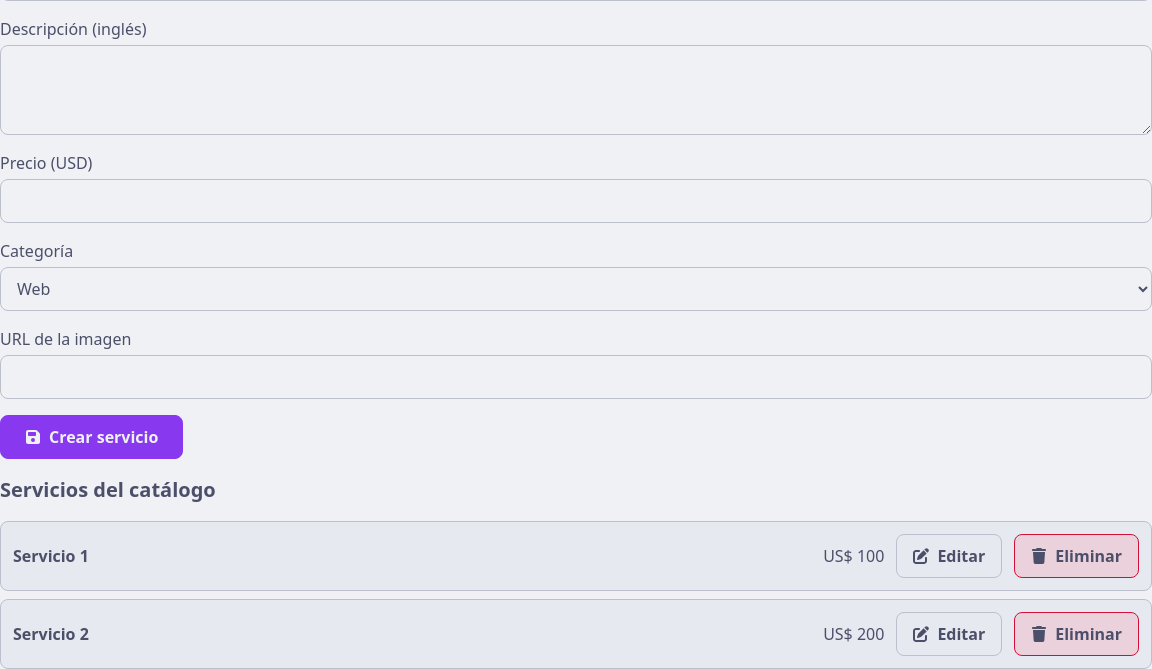
Scenario: Gestion › edit › saves the changes without creating a duplicate
This screenshot has width=1152, height=669.
(page scrolled)
Expected: the list is shown, [0, 521, 1151, 668]
Click the button with aria-label "Editar Servicio 2".
click(949, 634)  # box [896, 612, 1002, 656]
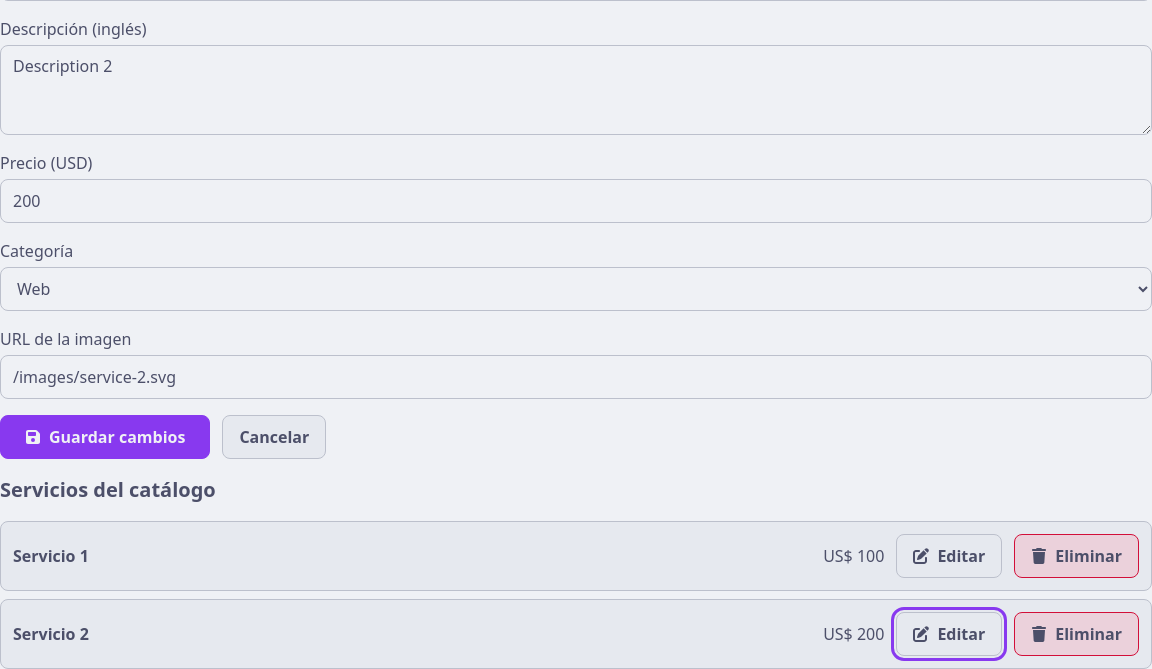
Replace the text in the number field labelled "Precio (USD)" with "999" at {"x": 576, "y": 201}, box [0, 179, 1151, 223]
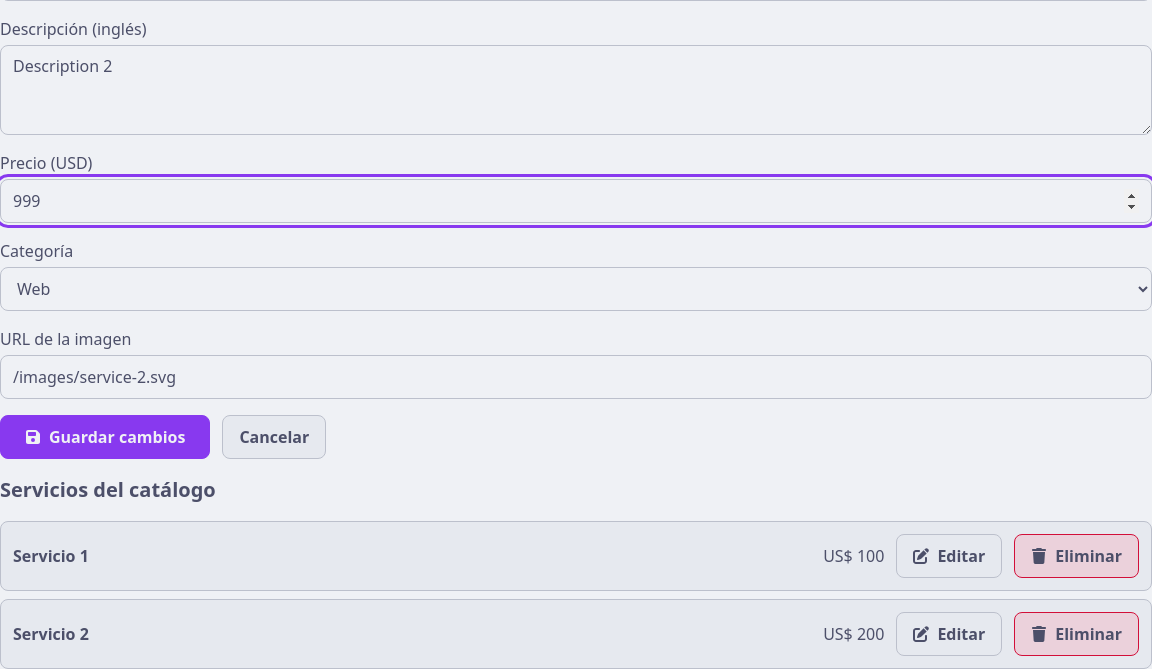
Click the button "Guardar cambios".
click(105, 437)  # box [0, 415, 210, 459]
(page scrolled)
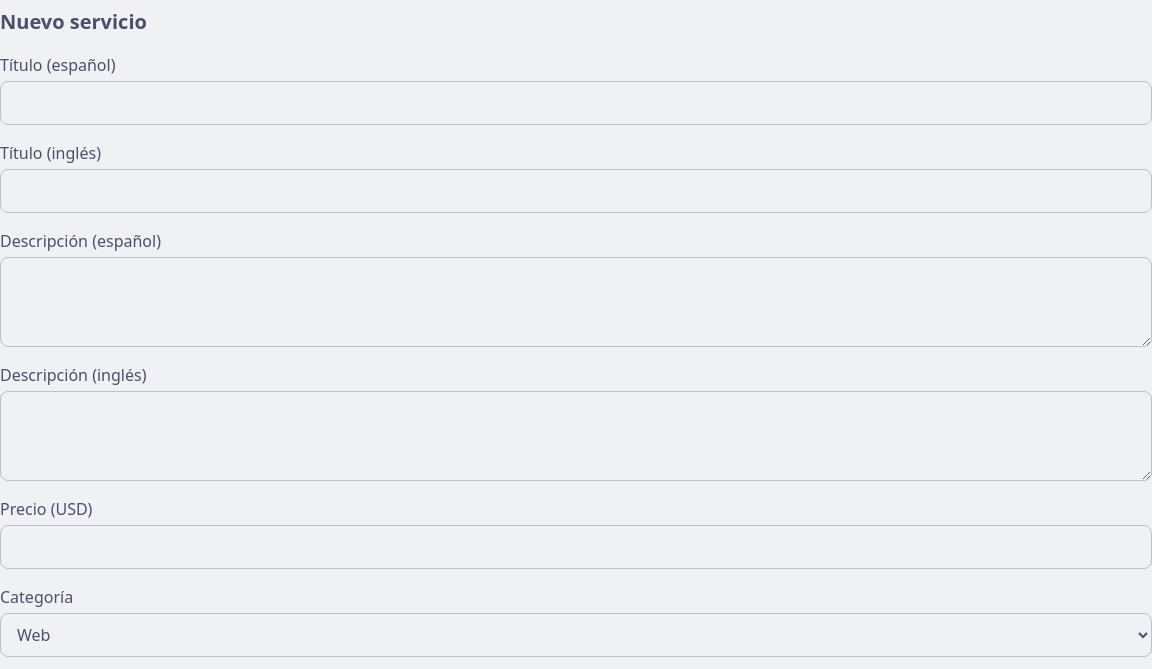
Now the heading "Nuevo servicio" is shown, box [0, 8, 147, 35]
